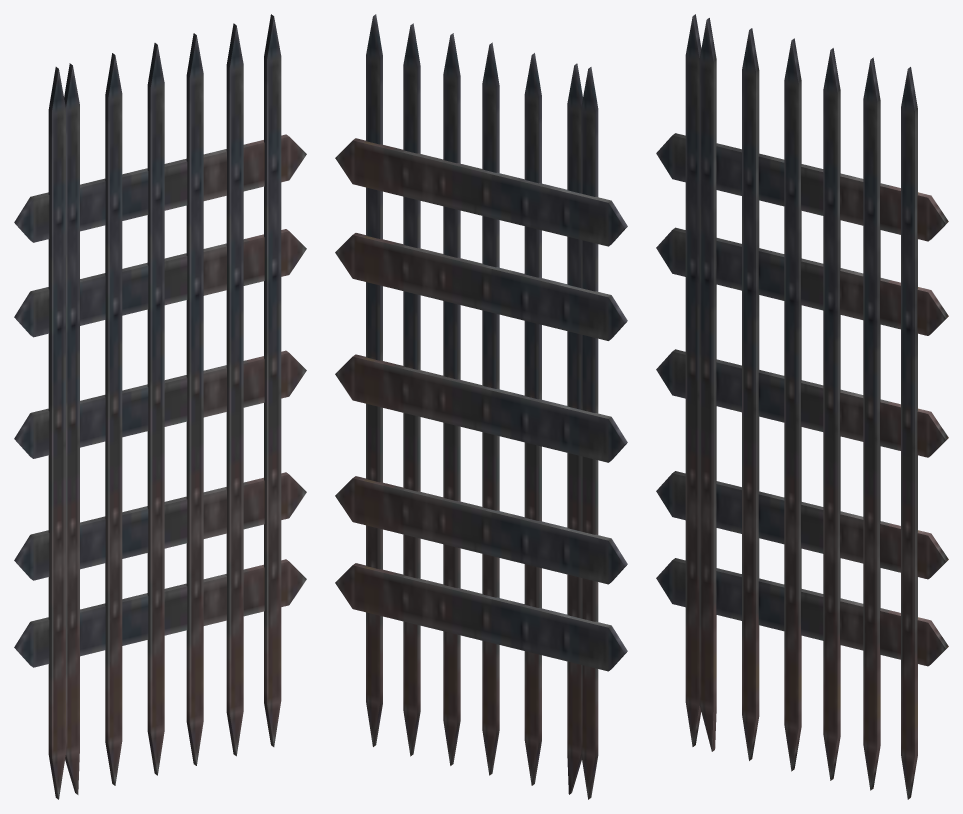
File: castleGate.fbx
The picture shows the model from 3 angles, left to right: view 1: azimuth 30°, elevation 25°; view 2: azimuth 150°, elevation 25°; view 3: azimuth 330°, elevation 25°; orthographic projection.
Visible parts, largest first — view 1: castleGate; view 2: castleGate; view 3: castleGate.
Boxes of the visible parts, <box> form: castleGate: <box>14,14,306,799</box>; castleGate: <box>335,14,627,799</box>; castleGate: <box>656,14,948,799</box>.
Bounding box in the file's own units: 4 × 9.64 × 0.1365.
